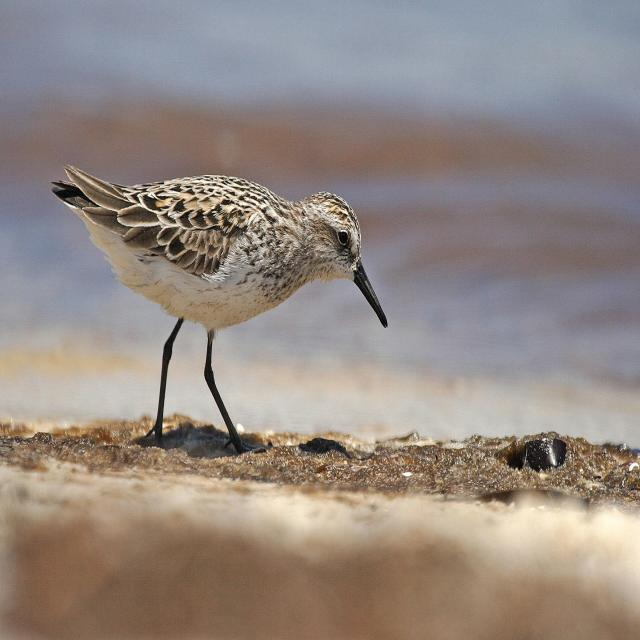sandpiper: (52, 167, 387, 451)
